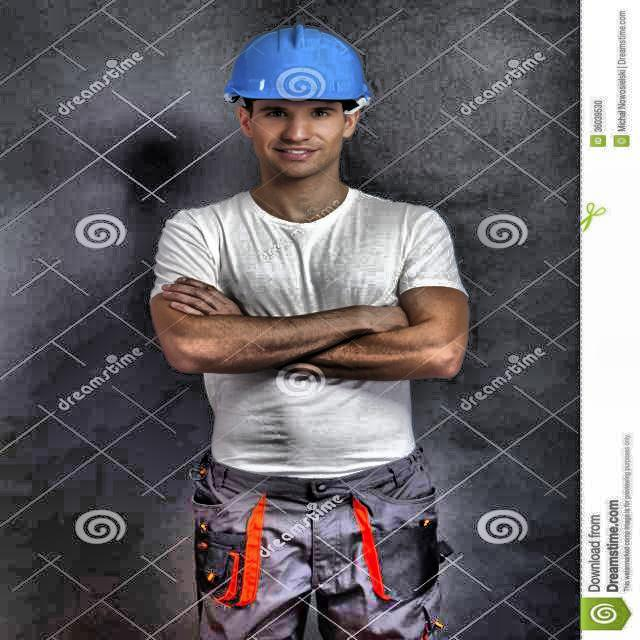person: (142, 19, 484, 630)
